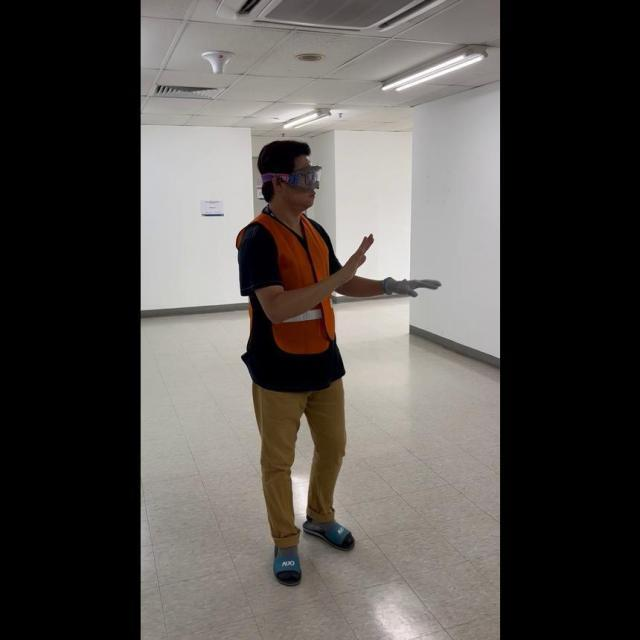bare_hand: (345, 228, 374, 271)
gloved_hand: (380, 271, 441, 297)
